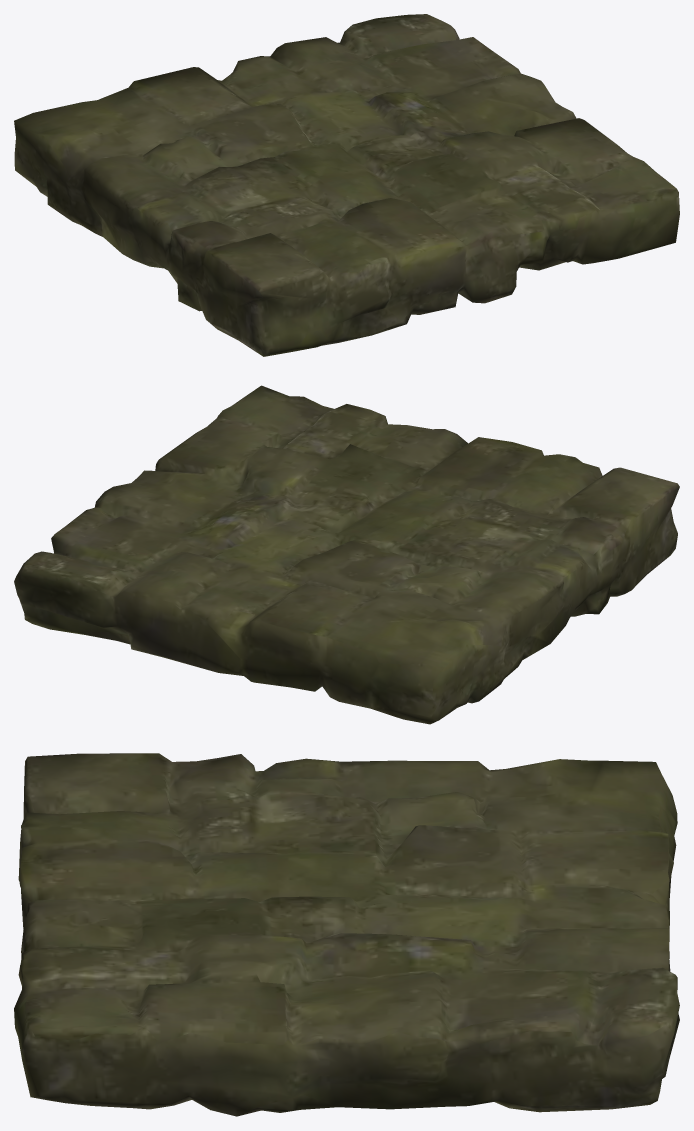
The model's file is Ruins_FloorTile01-transformed.glb.
3 views of the same model, one above another, from view 1: azimuth 30°, elevation 25°; view 2: azimuth 150°, elevation 25°; view 3: azimuth 270°, elevation 25° (orthographic). The views are drawn at different scales.
Visible parts, largest first — view 1: Ruins_FloorTile01; view 2: Ruins_FloorTile01; view 3: Ruins_FloorTile01.
Boxes of the visible parts, x1,y1,x2,y2 form: Ruins_FloorTile01: (14,14,679,356); Ruins_FloorTile01: (14,385,679,724); Ruins_FloorTile01: (14,753,679,1116).
Bounding box in the file's own units: 3.69 × 0.677 × 3.69.
Materials: 1 (1 with a texture image).
